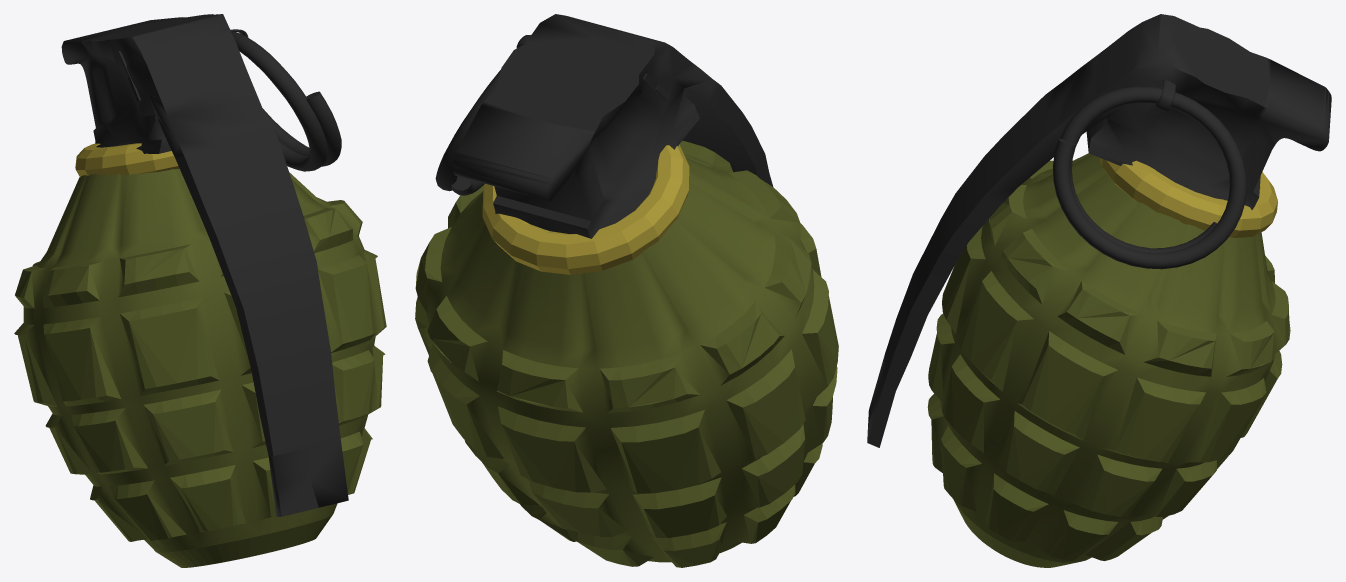
The model's file is Grenade.fbx.
3 renders of one model, left to right at view 1: azimuth 30°, elevation 25°; view 2: azimuth 150°, elevation 25°; view 3: azimuth 270°, elevation 25°, orthographic. The views are drawn at different scales.
Visible parts, largest first — view 1: L_Arm.001; view 2: L_Arm.001; view 3: L_Arm.001.
Boxes of the visible parts, bbox=[...] form: L_Arm.001: bbox=[14, 14, 386, 567]; L_Arm.001: bbox=[415, 14, 838, 567]; L_Arm.001: bbox=[867, 14, 1331, 567].
Bounding box in the file's own units: 47.47 × 69.71 × 56.98.
